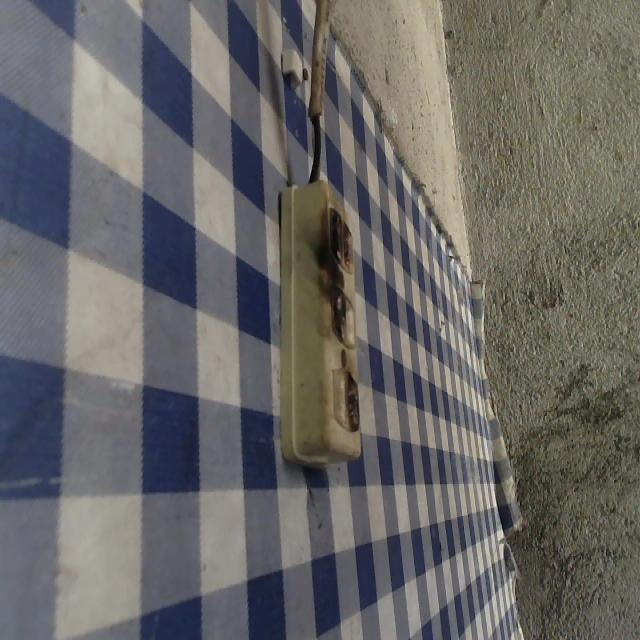-: (318, 201, 368, 276), (337, 360, 370, 437), (323, 284, 352, 348)
